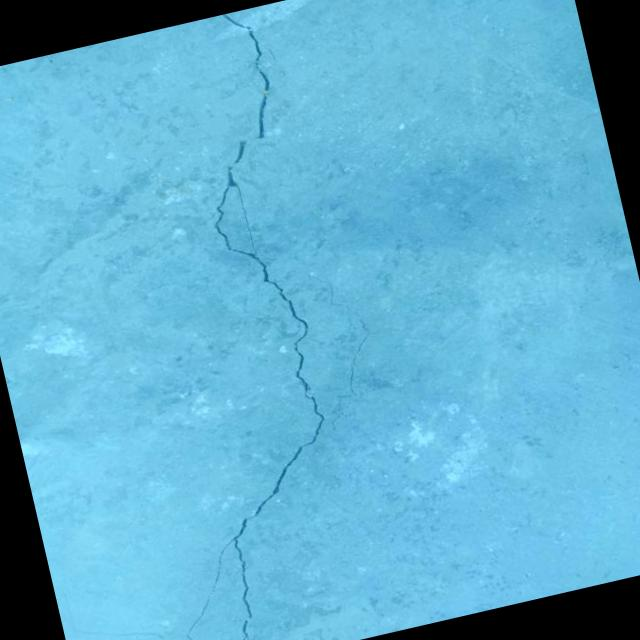crack: (0, 7, 397, 640), (296, 262, 394, 430)
